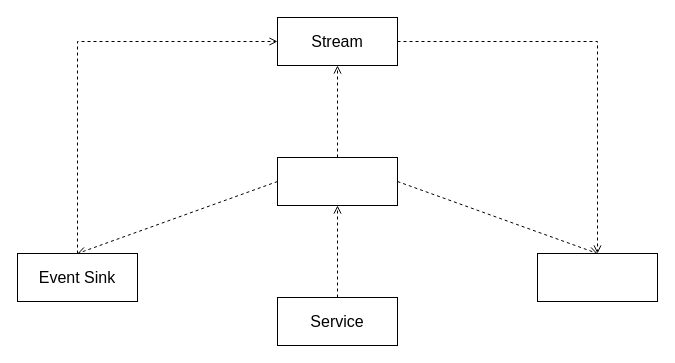
The diagram is 675 pixels wide and 363 high, and some of its shapes have lost their labels. The box of each missing label's shape, as (x1, y1, x2, y2) in pixels:
Event Watcher: (536, 252, 658, 302)
EventBus: (276, 156, 398, 206)
